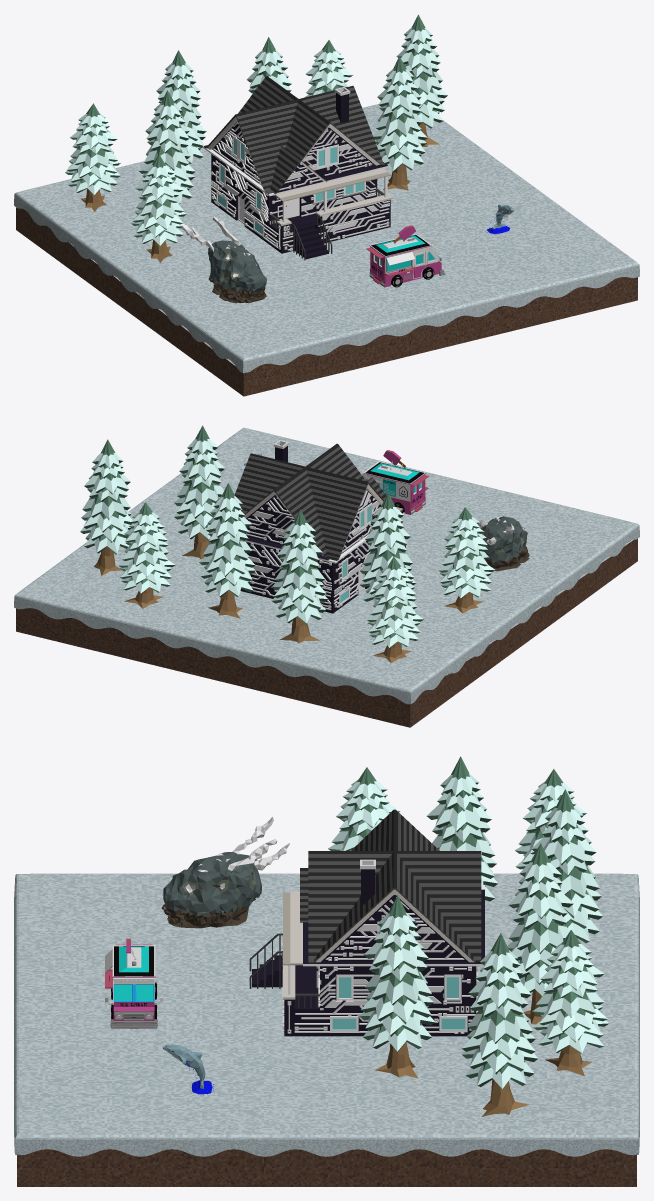
3 renders of one model, top to bottom at view 1: azimuth 30°, elevation 25°; view 2: azimuth 150°, elevation 25°; view 3: azimuth 270°, elevation 25°, orthographic. The views are drawn at different scales.
Visible parts, largest first — view 1: Cube.003, Cube.918, OBJRANDOM_METEORITE, VEHICLES_ICE_CREAM_TRUCK; view 2: Cube.003, Cube.918, VEHICLES_ICE_CREAM_TRUCK, OBJRANDOM_METEORITE; view 3: Cube.003, Cube.918, OBJRANDOM_METEORITE, VEHICLES_ICE_CREAM_TRUCK, ANIMAL_DELFIN.
Boxes of the visible parts, x1,y1,x2,y2 form: Cube.003: (14, 14, 639, 396); Cube.918: (202, 76, 393, 260); OBJRANDOM_METEORITE: (181, 216, 266, 303); VEHICLES_ICE_CREAM_TRUCK: (366, 225, 445, 287); Cube.003: (14, 425, 639, 727); Cube.918: (234, 440, 405, 613); VEHICLES_ICE_CREAM_TRUCK: (362, 450, 429, 514); OBJRANDOM_METEORITE: (477, 516, 529, 571); Cube.003: (14, 756, 639, 1186); Cube.918: (249, 809, 484, 1036); OBJRANDOM_METEORITE: (161, 817, 289, 928); VEHICLES_ICE_CREAM_TRUCK: (105, 938, 162, 1028); ANIMAL_DELFIN: (163, 1044, 214, 1094).
Bounding box in the file's own units: 4040 × 1695 × 4040.
Materials: 41 (3 with a texture image).
